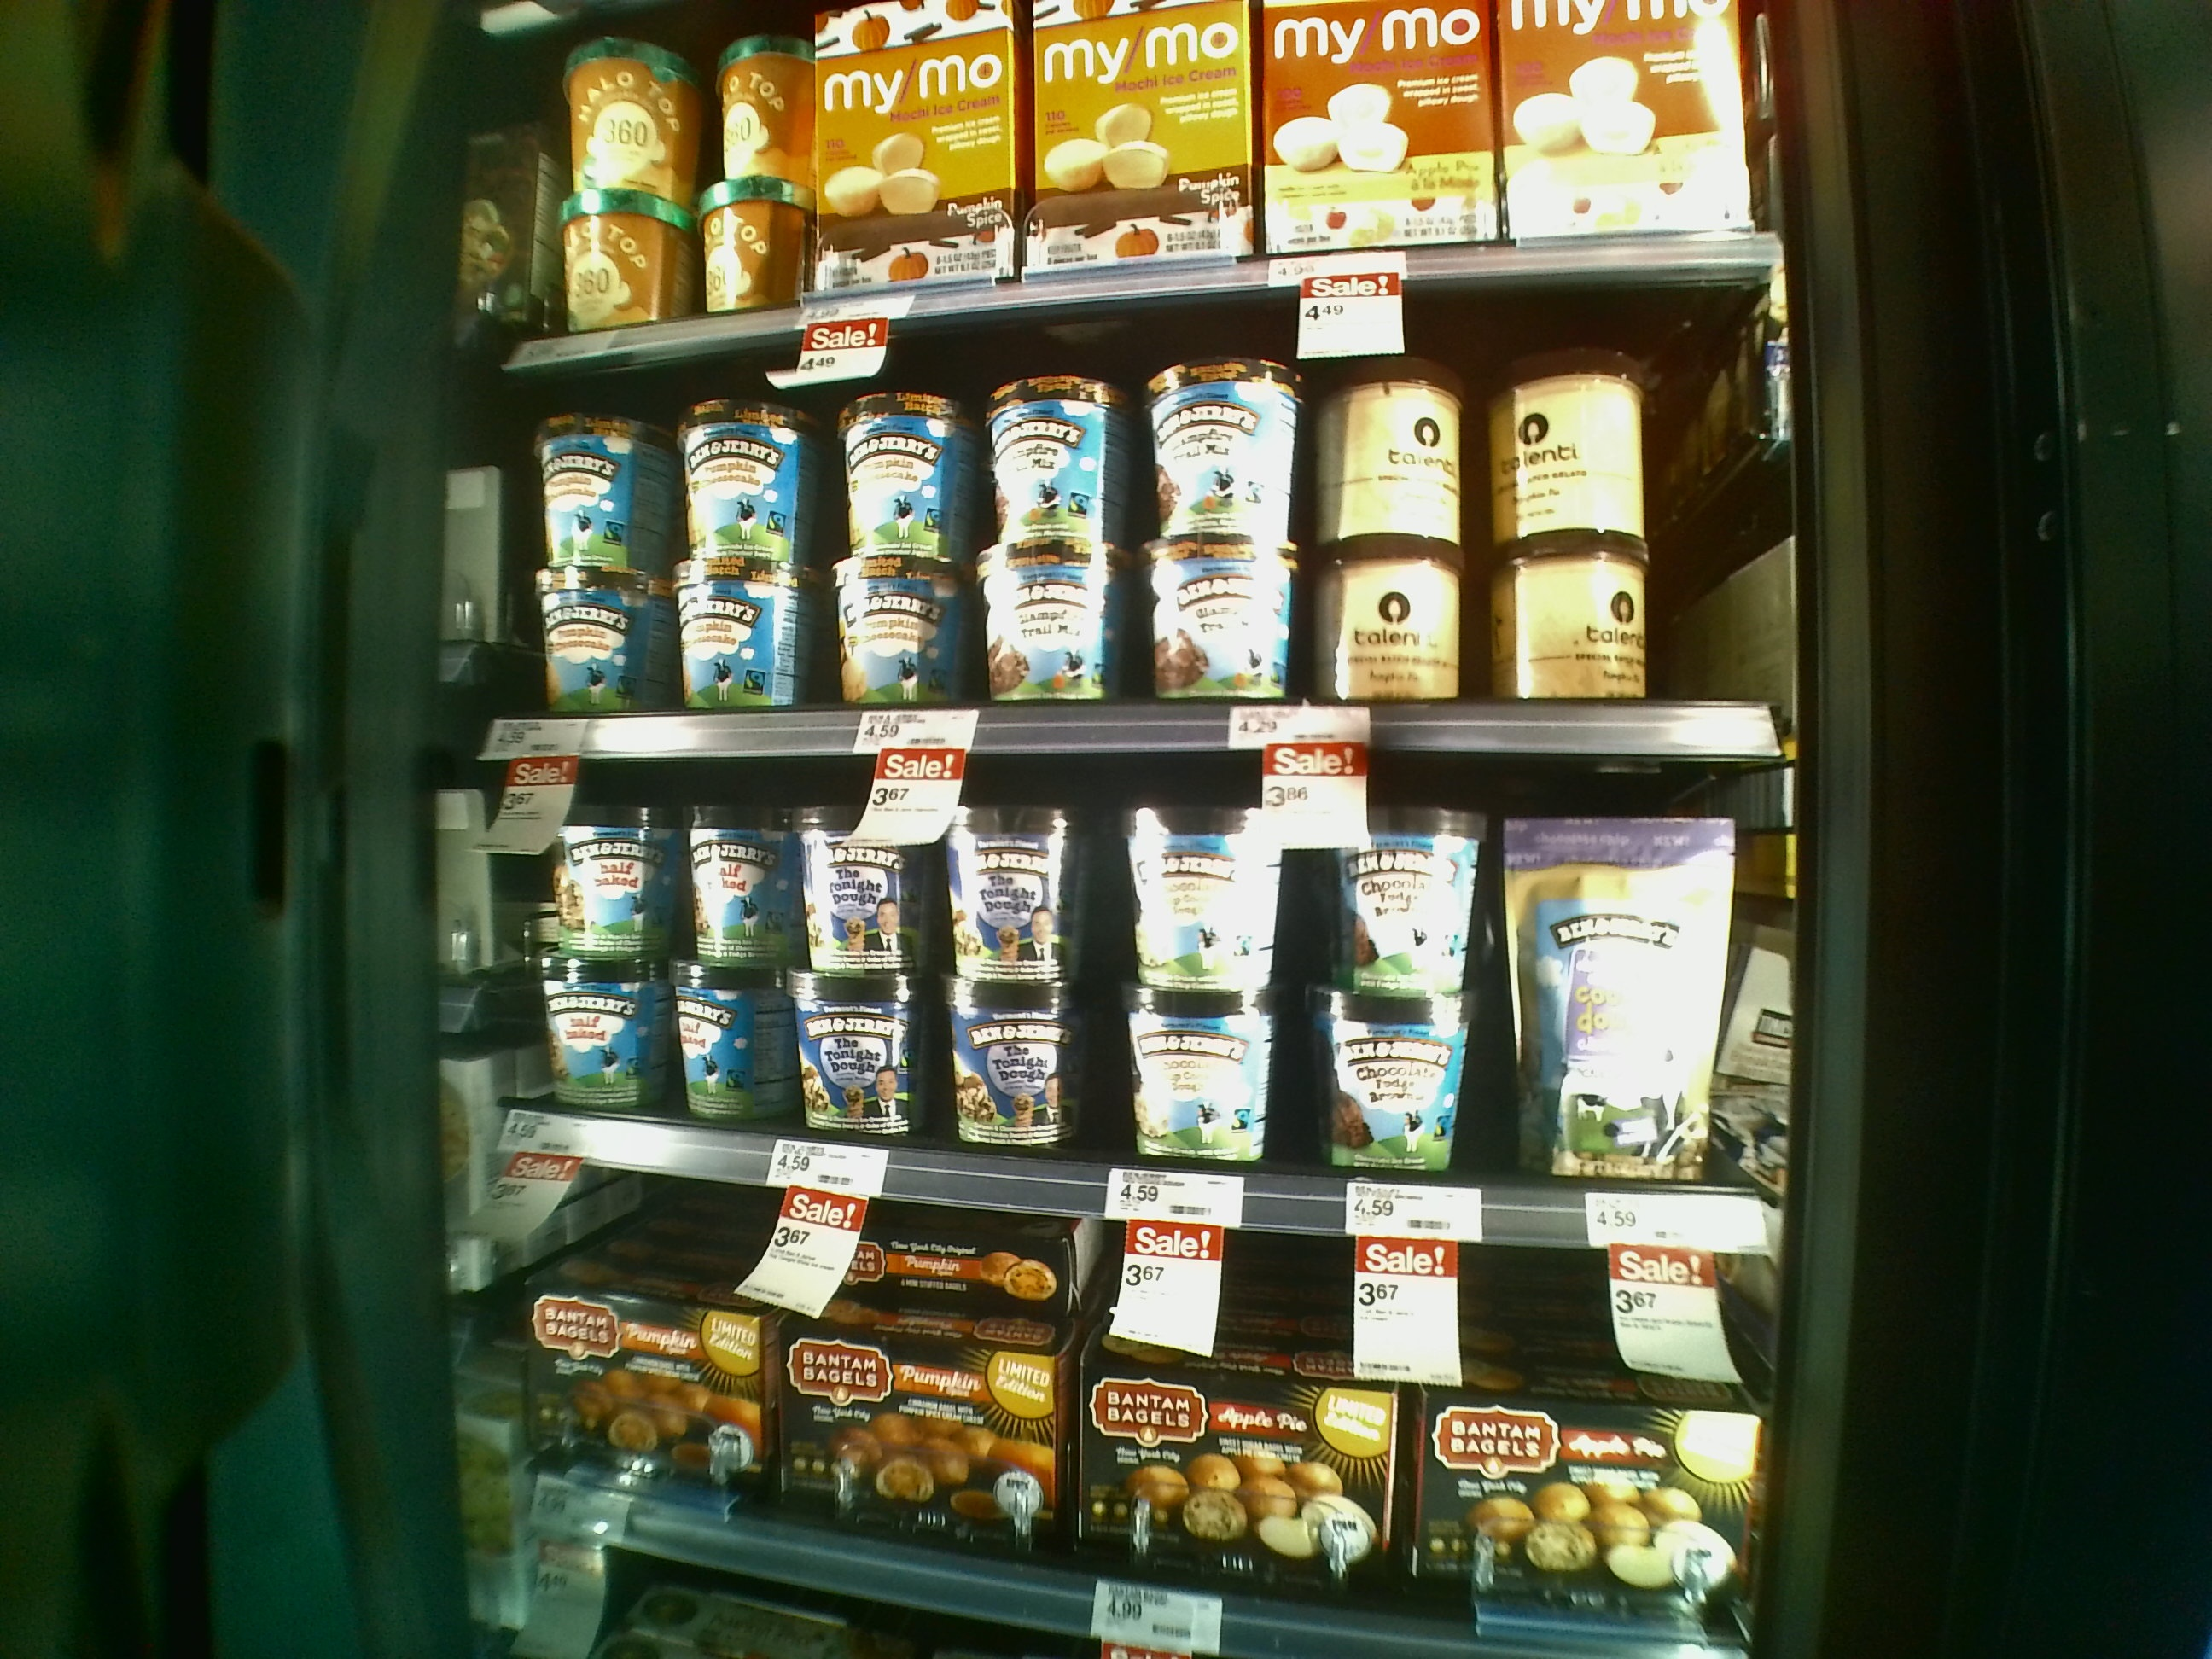shelf: (472, 690, 1764, 1244), (503, 319, 1764, 758)
